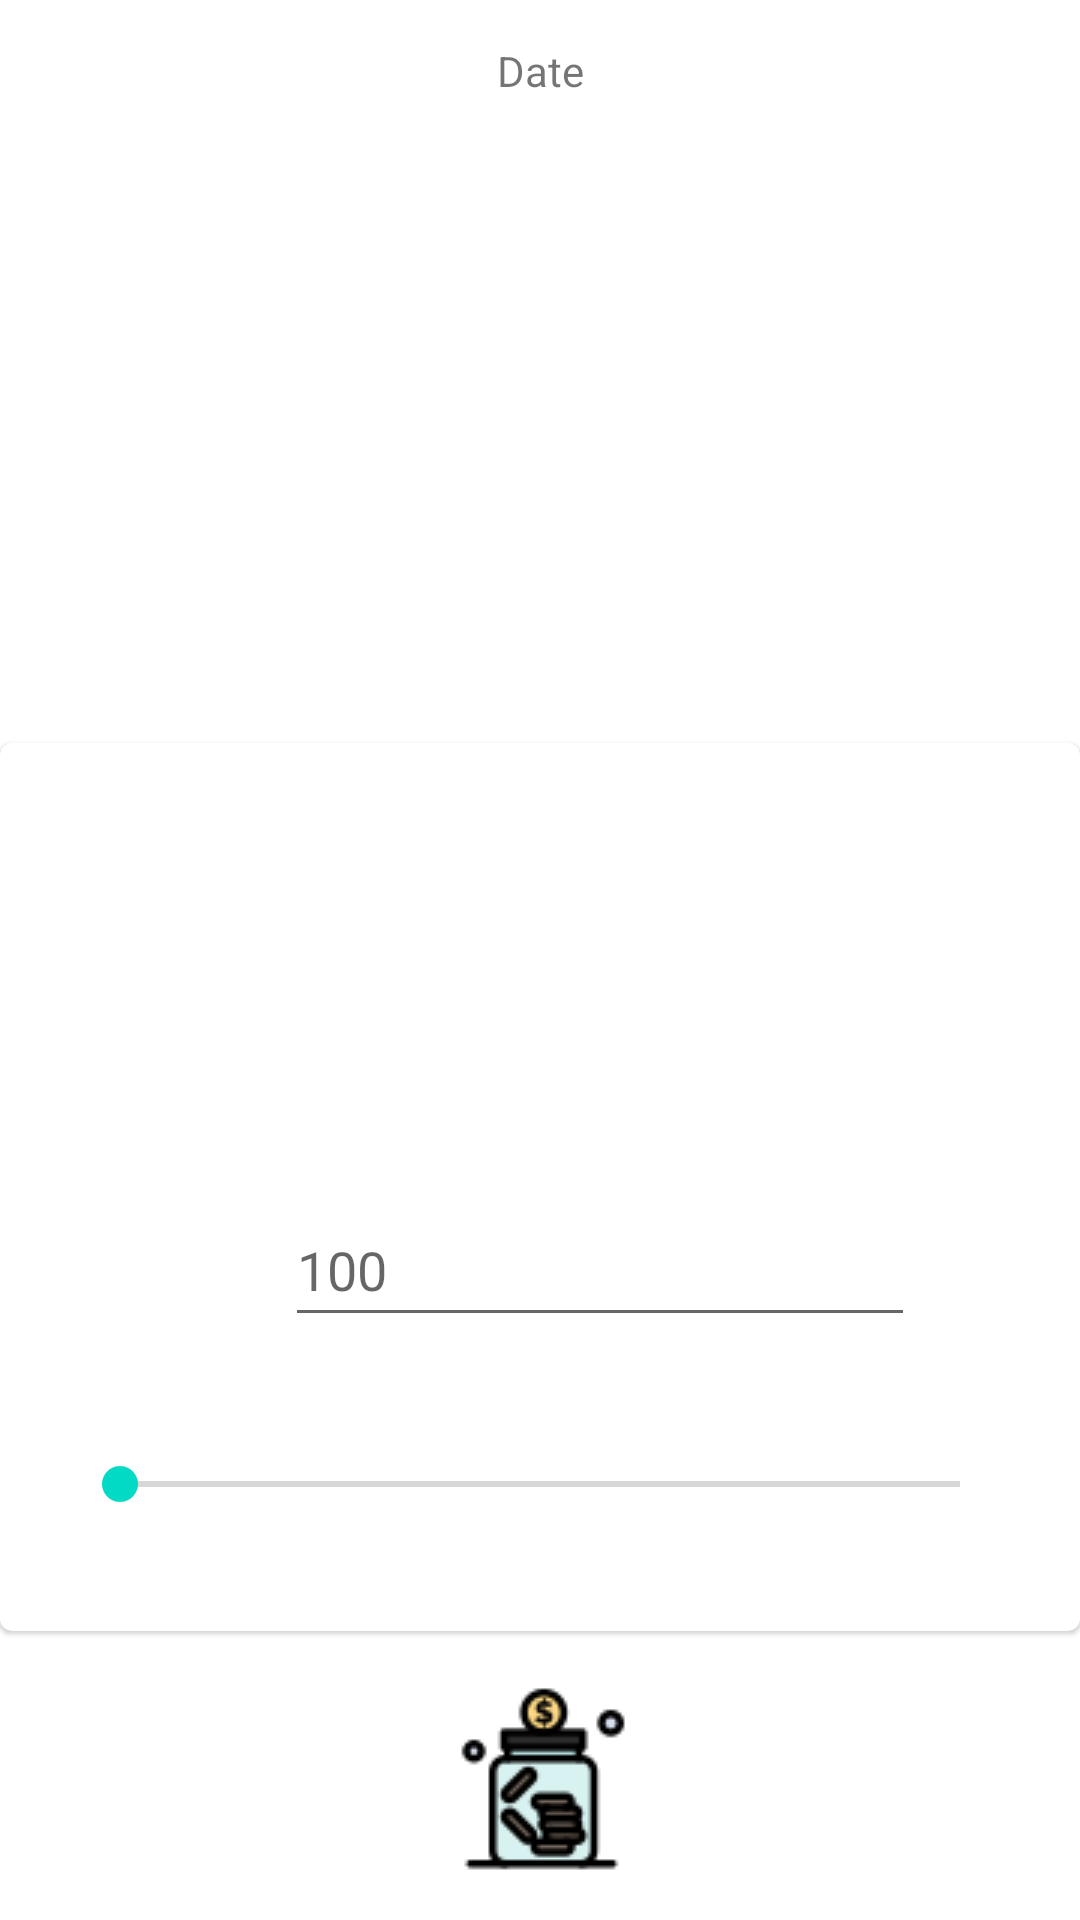

Icon click points for this 1080w x 1920h phone screenshot, format (x=x, y=y):
saving: (x=543, y=1779)
